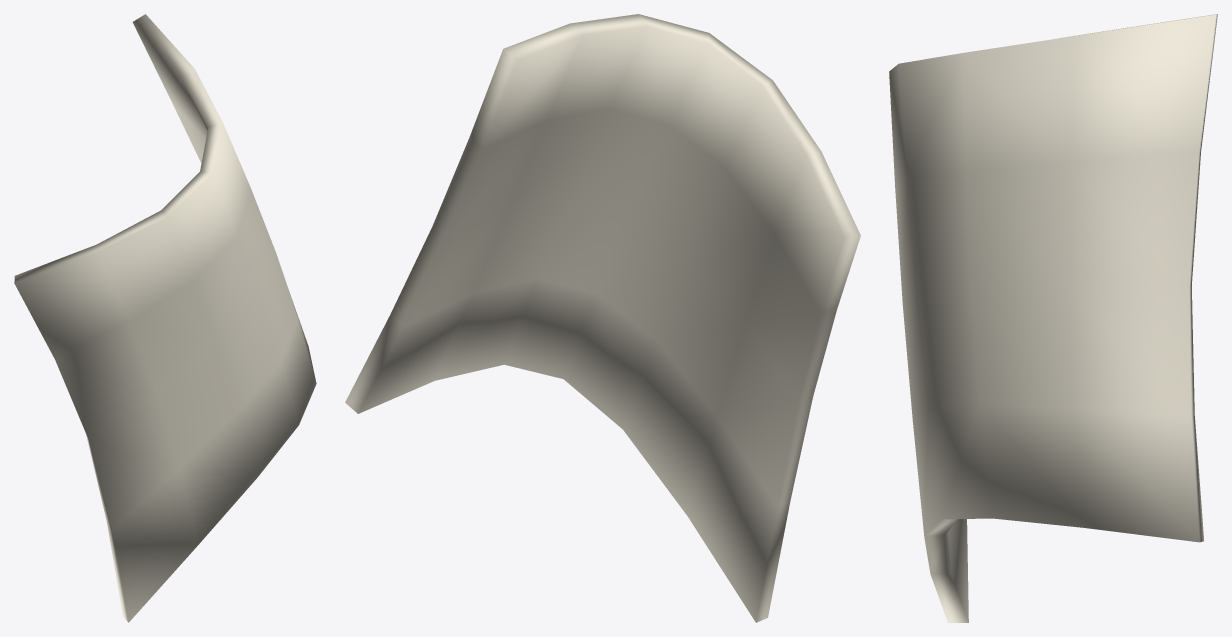
3 renders of one model, left to right at view 1: azimuth 30°, elevation 25°; view 2: azimuth 150°, elevation 25°; view 3: azimuth 270°, elevation 25°, orthographic. The views are drawn at different scales.
Visible parts, largest first — view 1: ZA_788d65be7b2f25e5; view 2: ZA_788d65be7b2f25e5; view 3: ZA_788d65be7b2f25e5.
Part boxes in pixels (left/top/right/bottom): ZA_788d65be7b2f25e5: left=14, top=14, right=316, bottom=622; ZA_788d65be7b2f25e5: left=345, top=14, right=860, bottom=622; ZA_788d65be7b2f25e5: left=889, top=14, right=1217, bottom=622.
Bounding box in the file's own units: 0.0127 × 0.0179 × 0.00777.
